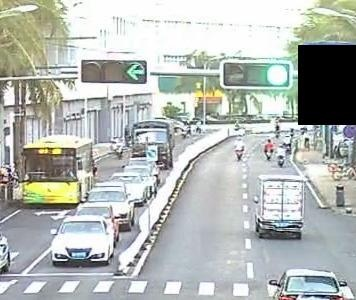green: (265, 64, 289, 86)
greenleft: (124, 62, 146, 82)
